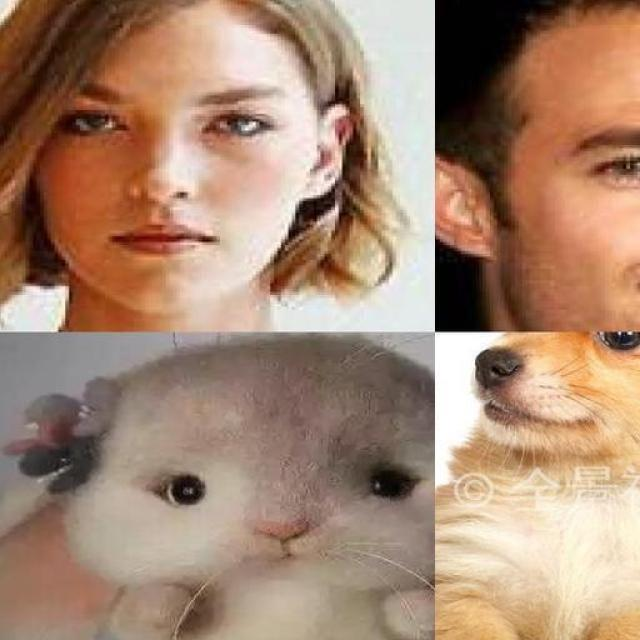bareface: (3, 2, 377, 306)
